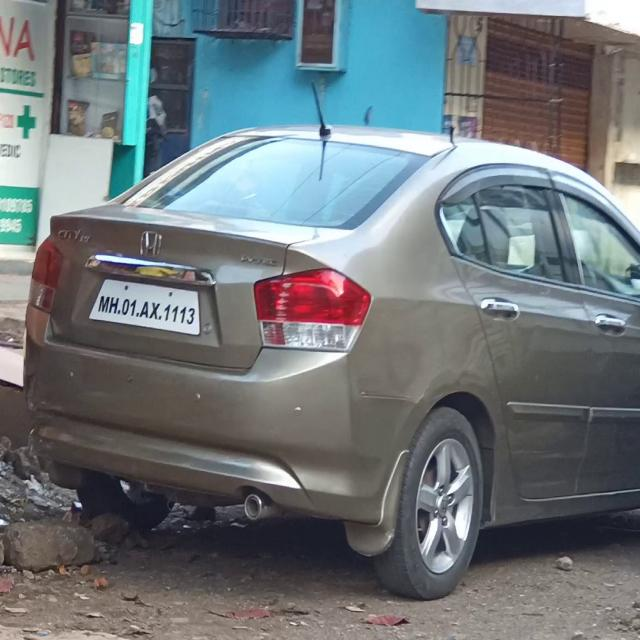Plate: (89, 278, 201, 336)
